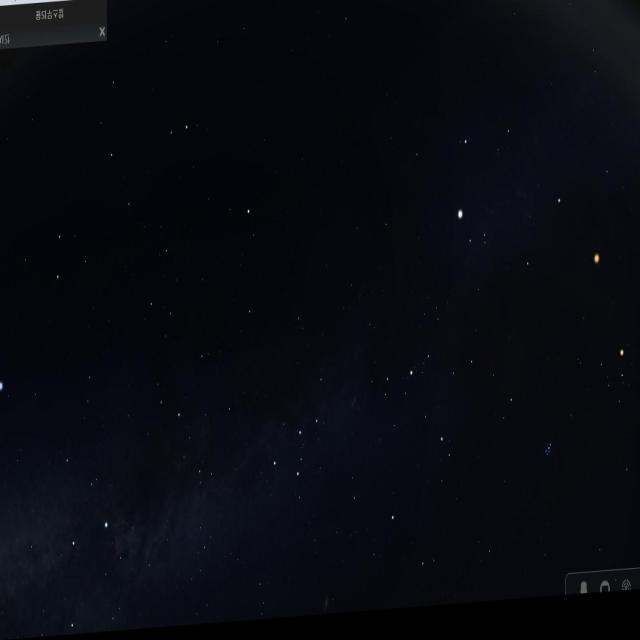cassiopeia: (266, 378, 333, 518)
pleiades: (539, 429, 560, 477)
